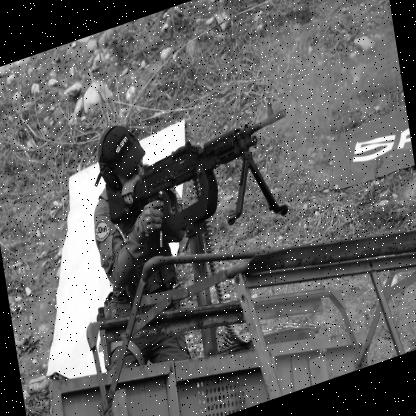rifle: (106, 98, 298, 246)
